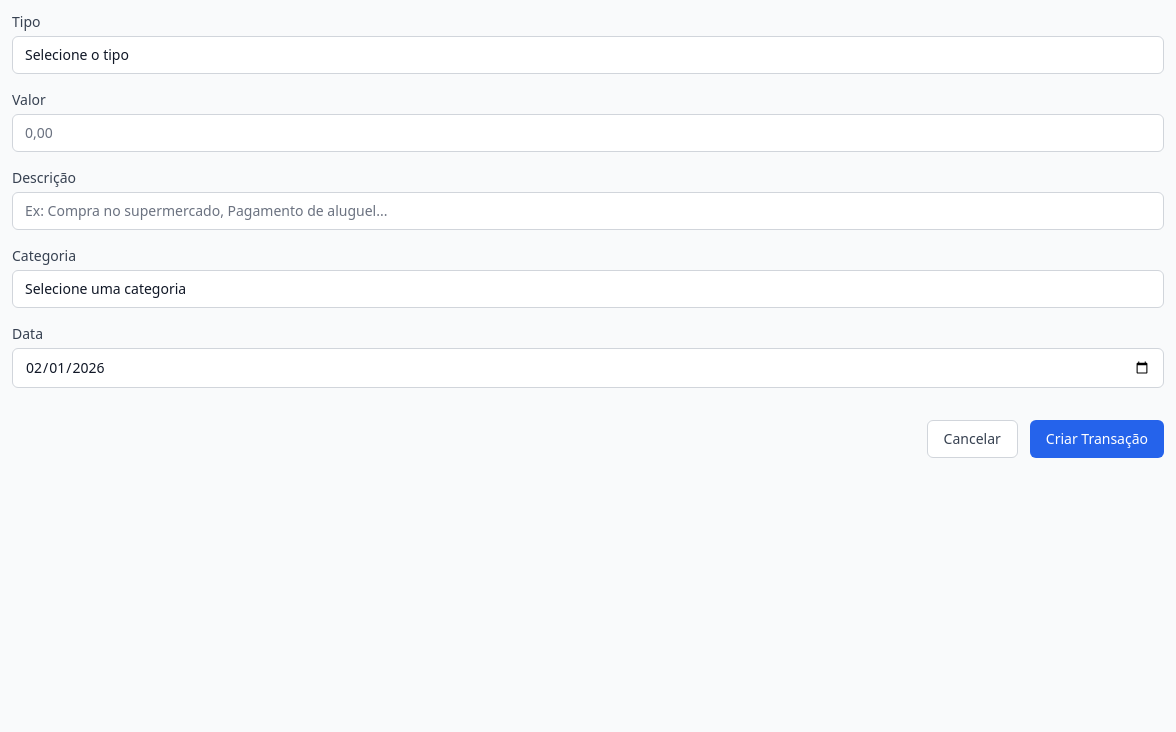
it: TransactionForm › Form Validation - Requirement 3.1 › should show error when valor is negative
The width and height of the screenshot is (1176, 732).
Type "-50" into the number field labelled "Valor" at (588,133), box top-left (12, 114), bottom-right (1164, 152)
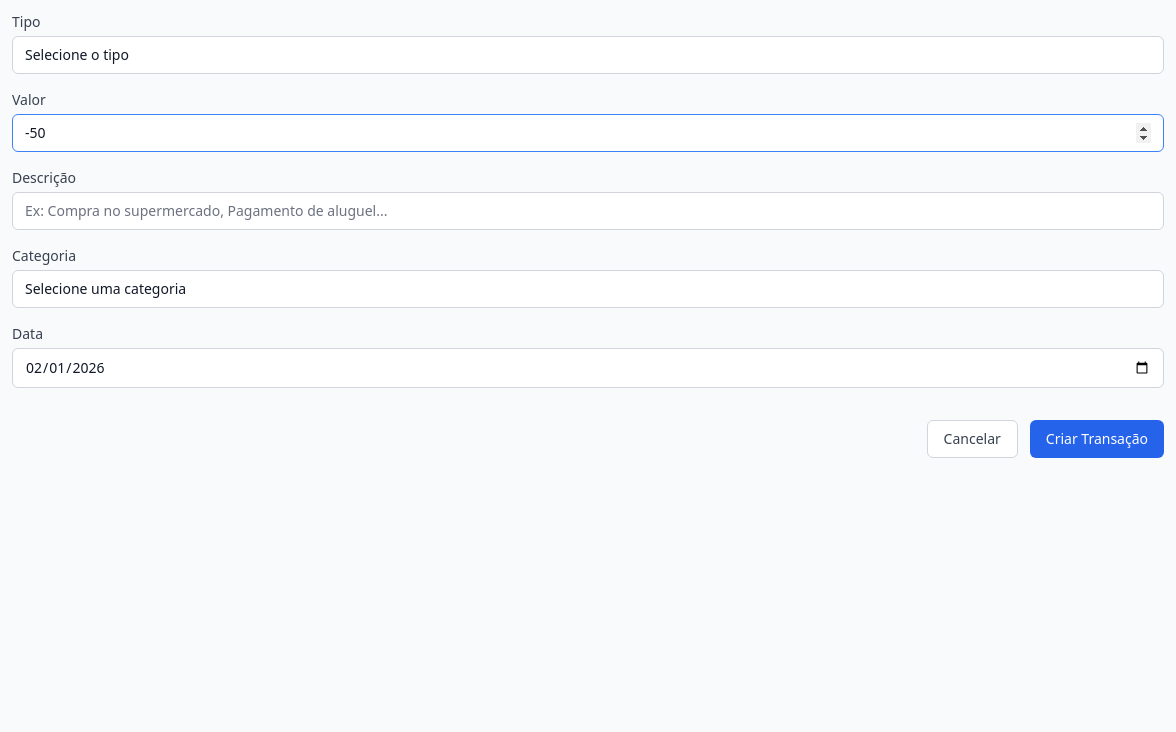
Click the button "Criar Transação" at (1097,439), box top-left (1030, 420), bottom-right (1164, 458)
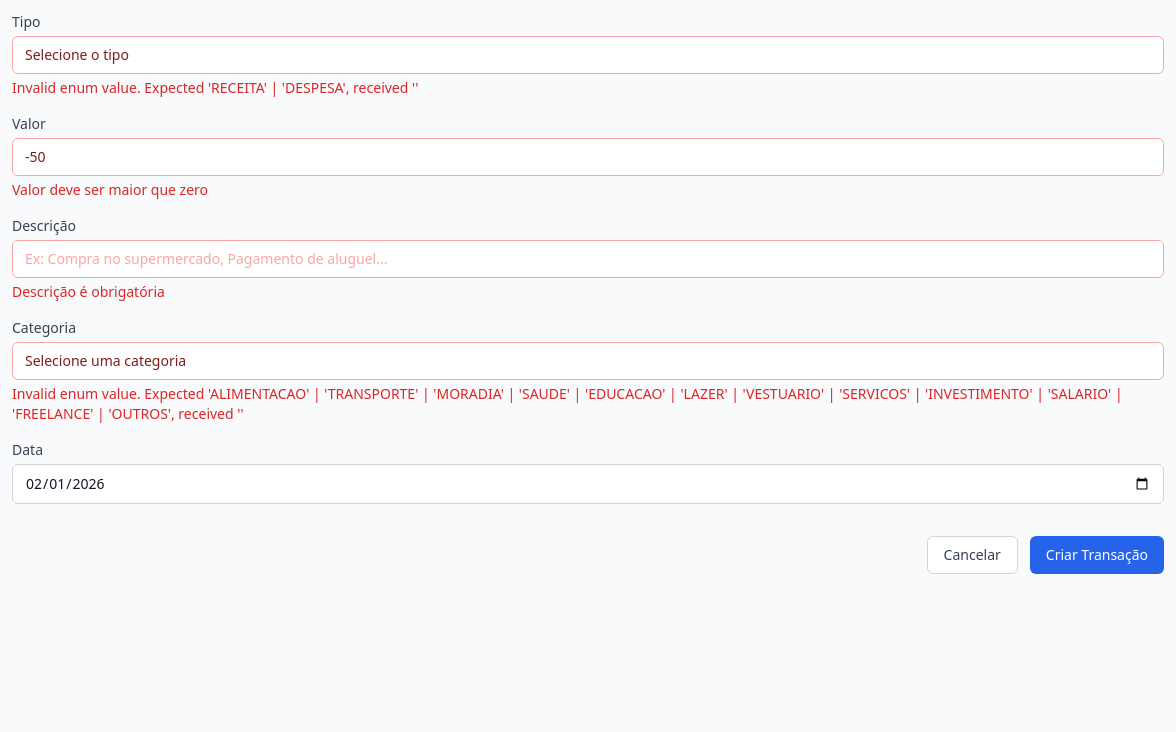
Expected: the text "Valor deve ser maior que zero" is shown, top-left (12, 180), bottom-right (208, 199)
